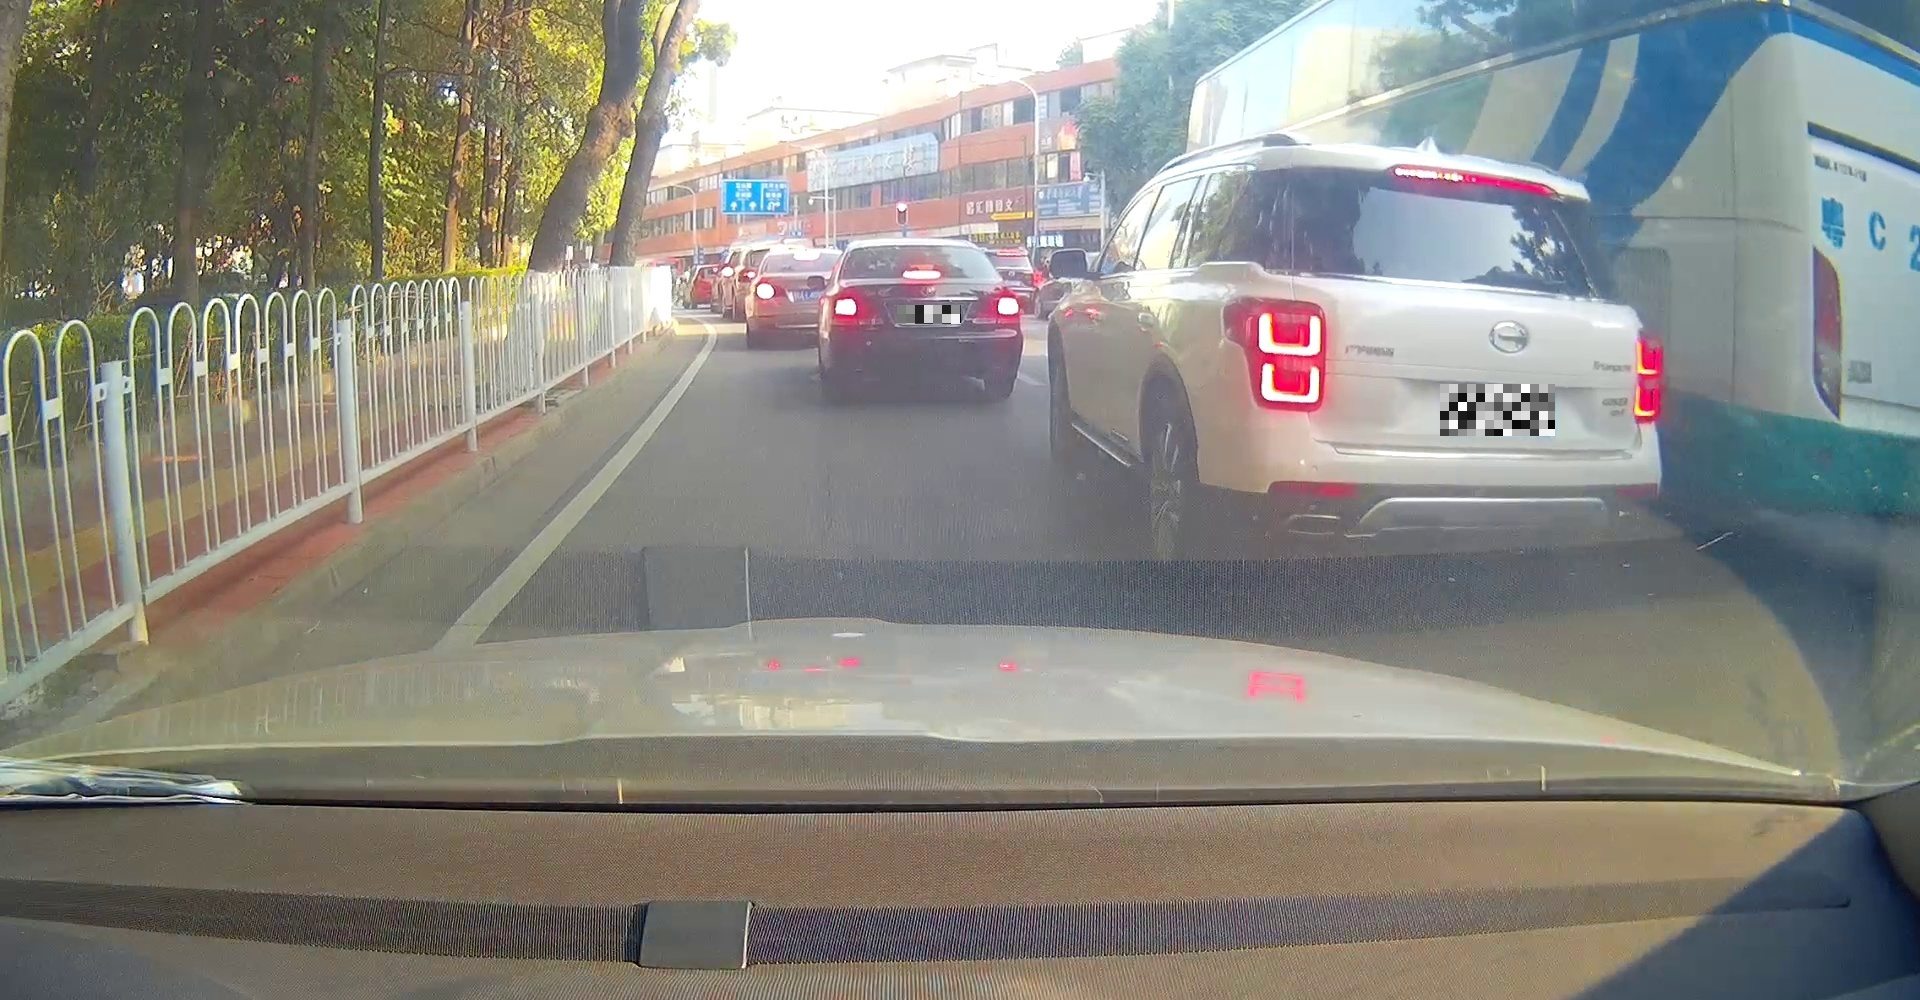L_light: (1222, 294, 1328, 412), (830, 294, 860, 320)
R_light: (1633, 327, 1662, 423), (996, 294, 1022, 317)
T_light: (1388, 162, 1557, 195), (902, 269, 942, 280)
day-brake: (1211, 140, 1665, 563), (829, 239, 1023, 398)
plate_1: (897, 305, 961, 324)
plate_2: (1440, 385, 1556, 437)
